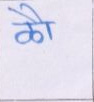e_matra: (20, 3, 44, 21)
